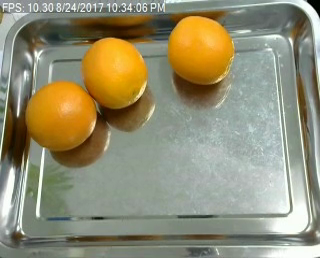Orange: (23, 81, 97, 150), (81, 37, 147, 108), (169, 14, 235, 85)
